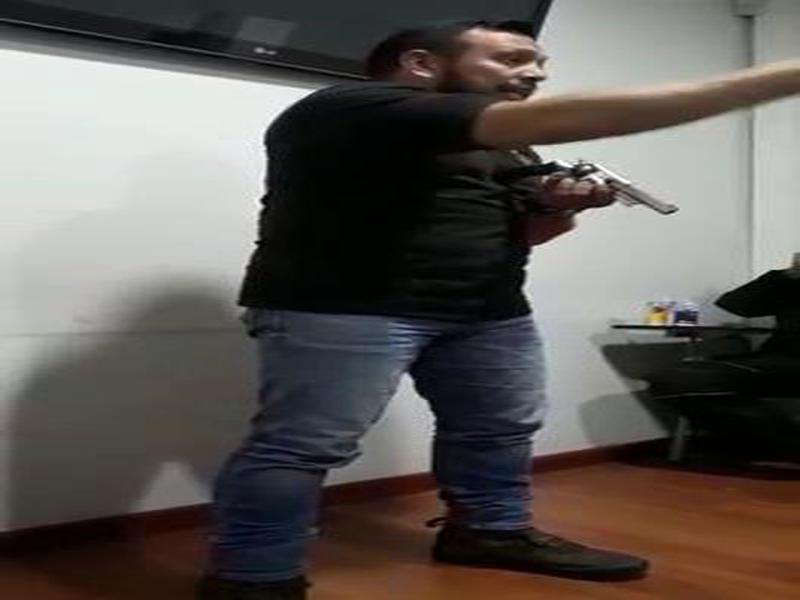Revolver: (497, 137, 688, 246)
